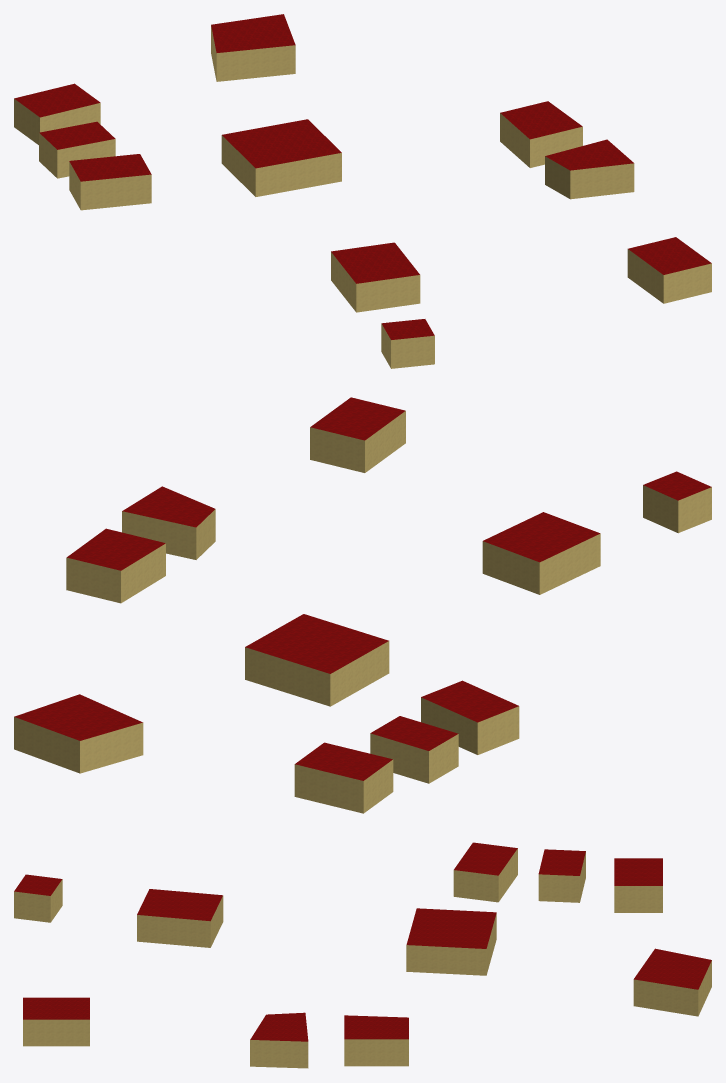
Rendered from district_-3_-1.glb.
3 views of the same model, one above another, from view 1: azimuth 30°, elevation 25°; view 2: azimuth 150°, elevation 25°; view 3: azimuth 270°, elevation 25° (orthographic). The views are drawn at different scales.
Parts seen in each view (by area): view 1: Building w624687512, Building w624687509, Building w44036542, Building w44036441, Building w624687511, Building w625363622, Building w44036493, Building w44036550, Building w625363621, Building w1486471692; view 2: Building w624687512, Building w44036542, Building w624687509, Building w44036493, Building w44036441, Building w44036550, Building w625363622, Building w624687511, Building w625363621, Building w1486471692; view 3: Building w624687512, Building w624687509, Building w44036542, Building w44036441, Building w44036493, Building w625363622, Building w624687511, Building w44036550, Building w625363621, Building w1486471692.
Part boxes in pixels (box(x1,y1,x2,y2)): Building w624687512: box(221, 119, 341, 196); Building w624687509: box(331, 242, 420, 312); Building w44036542: box(211, 14, 295, 81); Building w44036441: box(627, 237, 711, 303); Building w624687511: box(545, 139, 634, 199); Building w625363622: box(69, 154, 151, 210); Building w44036493: box(500, 101, 582, 167); Building w44036550: box(14, 83, 100, 144); Building w625363621: box(39, 121, 115, 178); Building w1486471692: box(381, 319, 434, 368); Building w624687512: box(245, 614, 389, 706); Building w44036542: box(14, 694, 143, 773); Building w624687509: box(482, 512, 600, 594); Building w44036493: box(66, 528, 165, 603); Building w44036441: box(310, 397, 405, 472); Building w44036550: box(294, 742, 393, 813); Building w625363622: box(421, 680, 519, 754); Building w624687511: box(122, 486, 215, 559); Building w625363621: box(370, 716, 458, 783); Building w1486471692: box(643, 471, 711, 533); Building w624687512: box(406, 908, 496, 975); Building w624687509: box(137, 889, 223, 947); Building w44036542: box(633, 948, 711, 1016); Building w44036441: box(23, 997, 89, 1046); Building w44036493: box(344, 1015, 408, 1066); Building w625363622: box(453, 842, 517, 902); Building w624687511: box(250, 1012, 308, 1068); Building w44036550: box(614, 858, 662, 912); Building w625363621: box(538, 849, 585, 902); Building w1486471692: box(14, 874, 62, 922).
Size of the model in its own units: 120 by 7.5 by 177.
2 materials, 2 textured.
